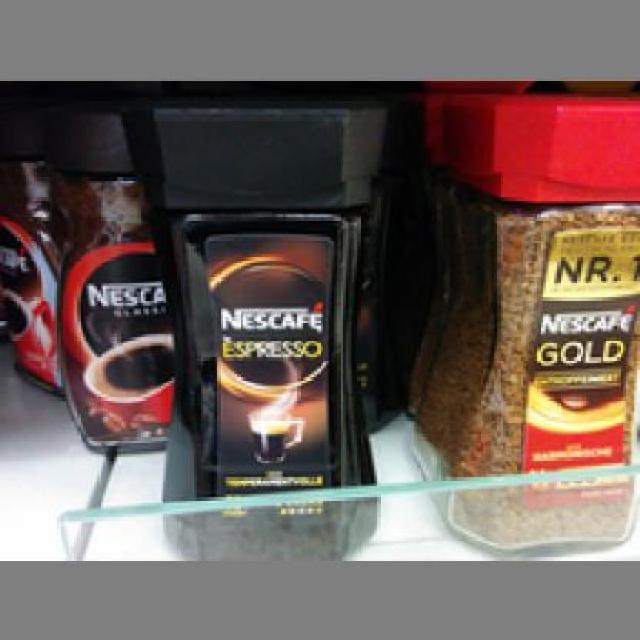Coffee: (114, 82, 380, 555), (422, 88, 638, 554)
